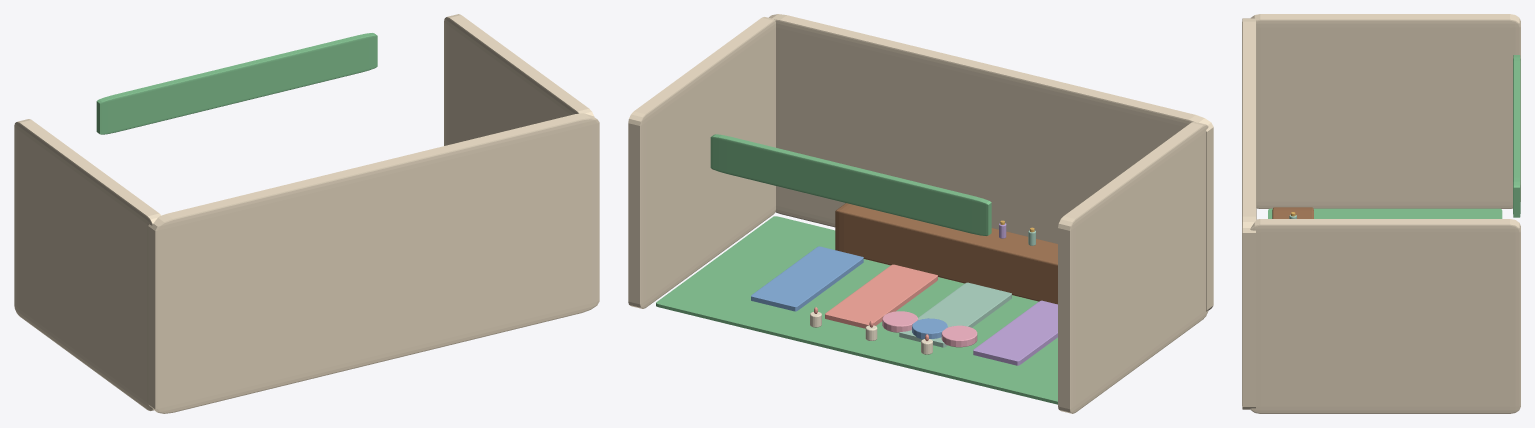
The model's file is wellness_willow.glb.
3 renders of one model, left to right at view 1: azimuth 30°, elevation 25°; view 2: azimuth 150°, elevation 25°; view 3: azimuth 270°, elevation 25°, orthographic. The views are drawn at different scales.
Visible parts, largest first — view 1: wellness_willow_back, wellness_willow_left, wellness_willow_sign, wellness_willow_right; view 2: wellness_willow_back, wellness_willow_left, wellness_willow_right, wellness_willow_floor, Wellness_Counter, wellness_willow_sign, Yoga_Mat_4, Yoga_Mat_3, Yoga_Mat_1, Yoga_Mat_2, Meditation_Cushion_1, Meditation_Cushion_3 (+1 smaller); view 3: wellness_willow_right, wellness_willow_left, wellness_willow_back, wellness_willow_floor, wellness_willow_sign, Wellness_Counter.
Part boxes in pixels (x1,y1,x2,y2): wellness_willow_back: (148,113,599,413); wellness_willow_left: (14,119,160,410); wellness_willow_sign: (96,33,377,134); wellness_willow_right: (444,14,594,145); wellness_willow_back: (769,14,1213,311); wellness_willow_left: (1058,122,1208,413); wellness_willow_right: (628,17,775,308); wellness_willow_floor: (656,216,1057,404); Wellness_Counter: (835,203,1057,304); wellness_willow_sign: (710,134,991,235); Yoga_Mat_4: (751,246,863,311); Yoga_Mat_3: (825,264,937,328); Yoga_Mat_1: (973,300,1057,365); Yoga_Mat_2: (899,282,1011,347); Meditation_Cushion_1: (941,325,977,347); Meditation_Cushion_3: (882,311,917,332); wellness_willow_right: (1250,219,1520,413); wellness_willow_left: (1251,14,1520,208); wellness_willow_back: (1242,18,1256,409); wellness_willow_floor: (1268,208,1502,218); wellness_willow_sign: (1513,55,1520,217); Wellness_Counter: (1272,207,1313,218).
Size of the model in its own units: 12 by 5 by 6.67.
